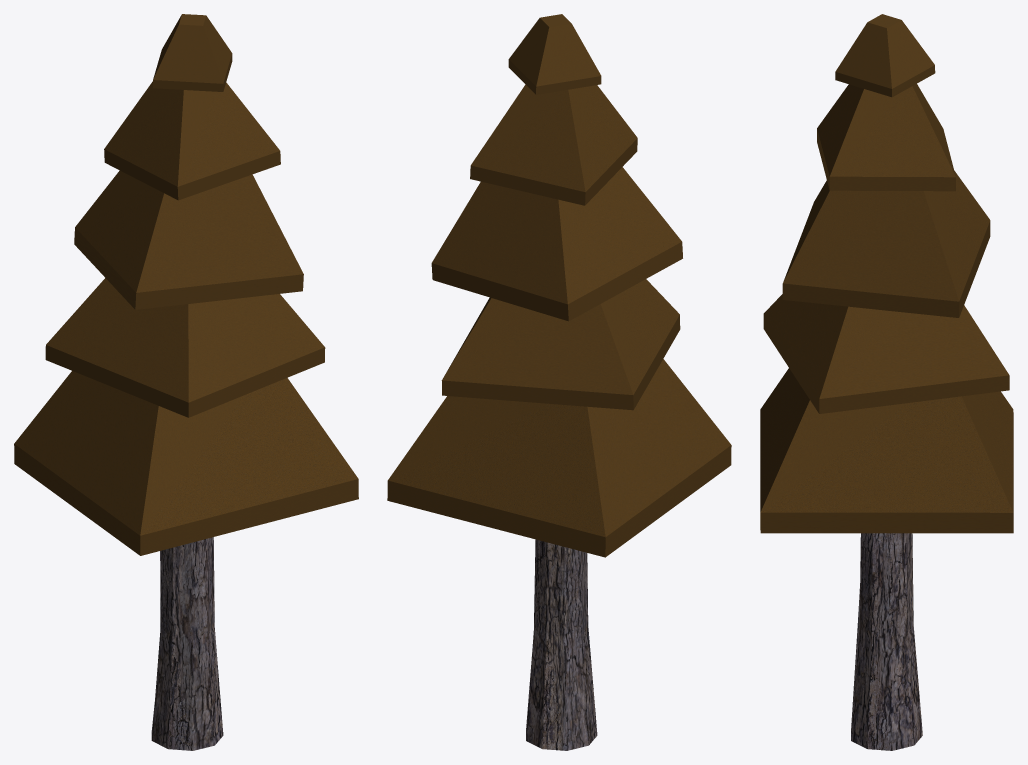
File: hillTree7.obj
The picture shows the model from 3 angles, left to right: view 1: azimuth 30°, elevation 25°; view 2: azimuth 150°, elevation 25°; view 3: azimuth 270°, elevation 25°; orthographic projection.
Visible parts, largest first — view 1: Cube.004, wood_Cylinder; view 2: Cube.004, wood_Cylinder; view 3: Cube.004, wood_Cylinder.
Boxes of the visible parts, x1,y1,x2,y2 form: Cube.004: [14, 14, 358, 555]; wood_Cylinder: [151, 537, 223, 750]; Cube.004: [387, 14, 731, 557]; wood_Cylinder: [526, 539, 597, 750]; Cube.004: [760, 14, 1013, 533]; wood_Cylinder: [851, 533, 922, 750].
Size of the model in its own units: 1.11 by 3.47 by 1.11.
Materials: 2 (2 with a texture image).
